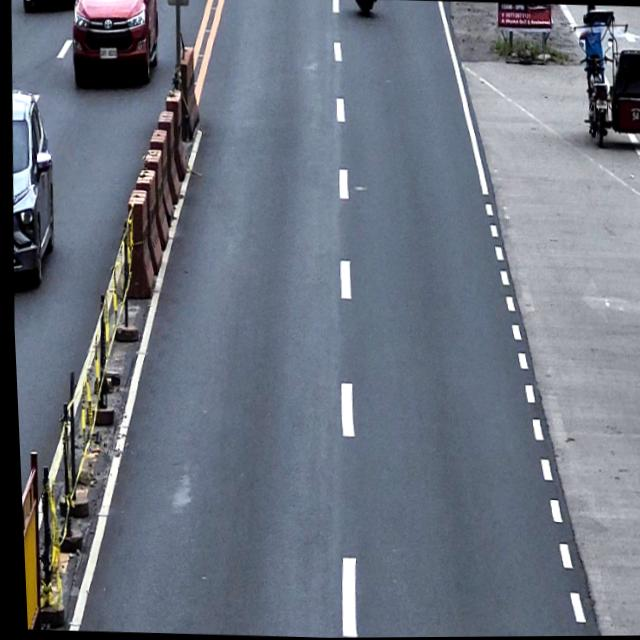Car: (5, 87, 58, 284), (68, 0, 160, 89)
License-Plate: (97, 45, 117, 59), (594, 99, 606, 110)
Tricycle: (572, 7, 640, 150)
